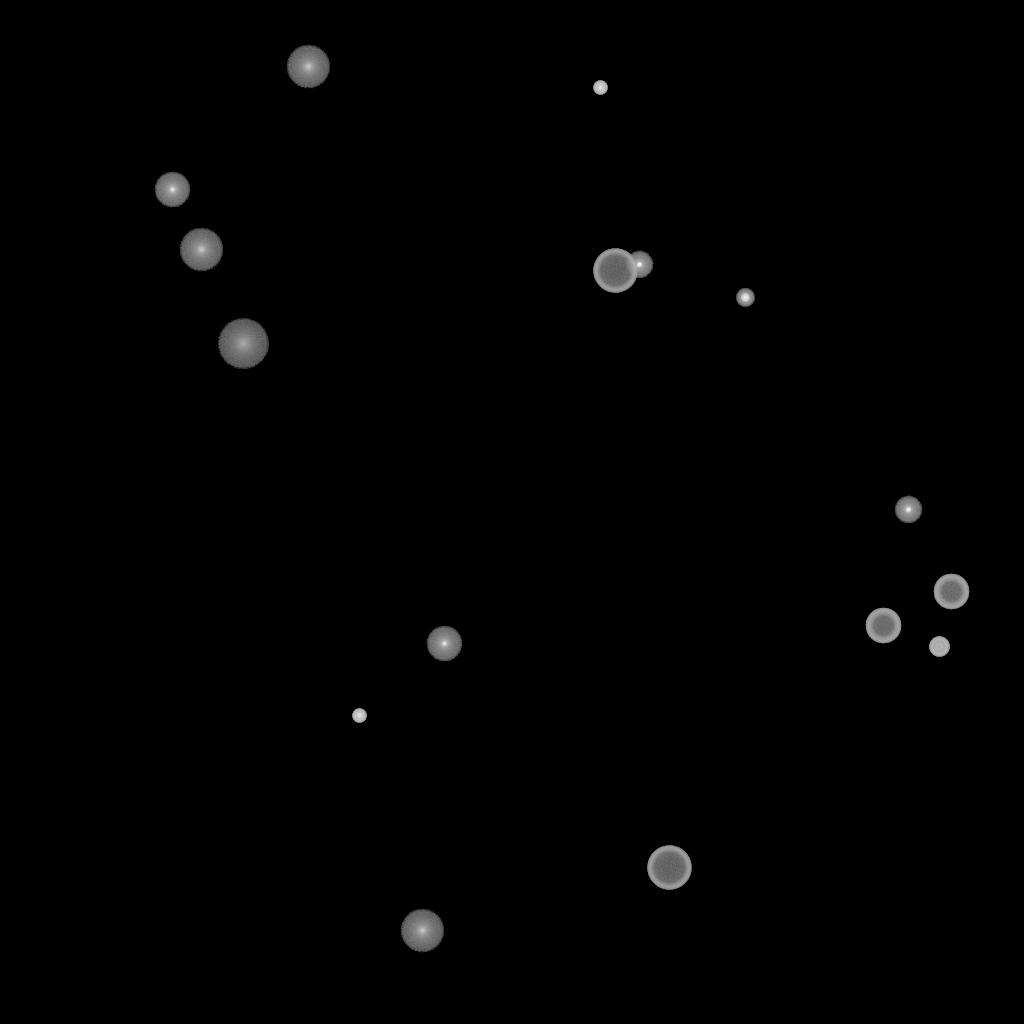depth:-10: (894, 496, 922, 524), (625, 251, 653, 279)
depth:-20: (736, 289, 754, 307)
depth:-30: (593, 81, 607, 95), (352, 709, 366, 723)
depth:-40: (929, 637, 949, 657)
depth:-60: (865, 608, 901, 644), (933, 574, 969, 610)
depth:-70: (593, 249, 637, 293), (647, 846, 691, 890)
depth:0: (426, 626, 462, 662), (154, 172, 190, 208)
depth:10: (286, 45, 330, 89), (400, 909, 444, 953), (179, 228, 223, 272)
depth:20: (217, 319, 269, 369)
